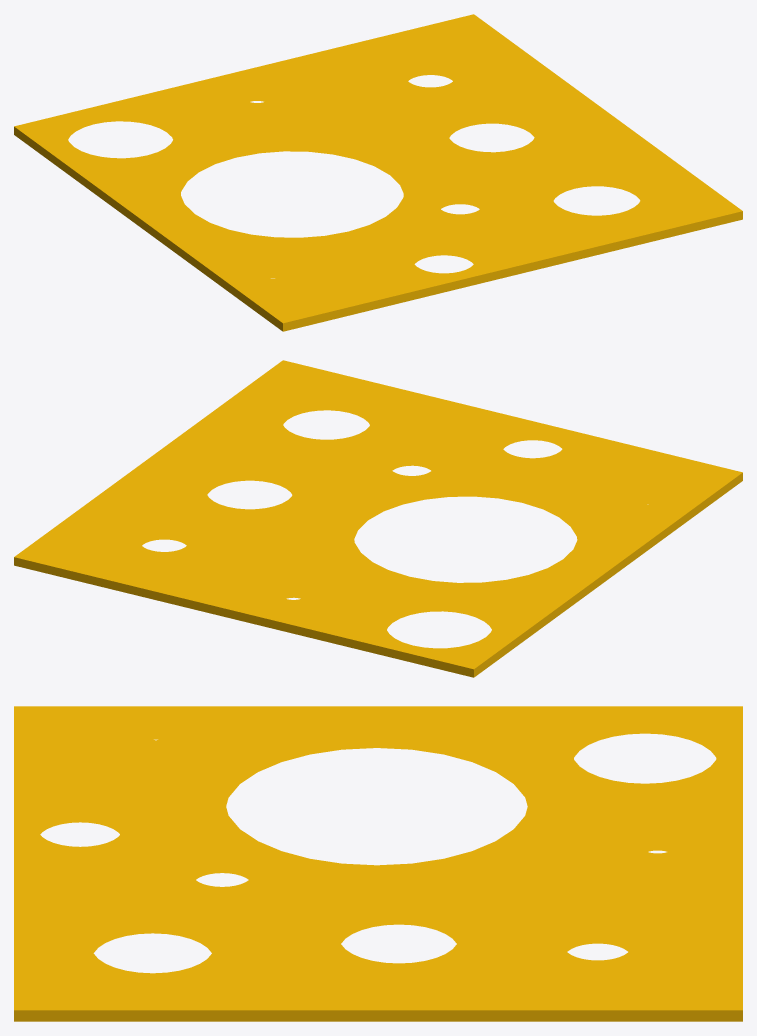
File: cheese.FBX
The picture shows the model from 3 angles, top to bottom: view 1: azimuth 30°, elevation 25°; view 2: azimuth 150°, elevation 25°; view 3: azimuth 270°, elevation 25°; orthographic projection. The views are drawn at different scales.
Parts seen in each view (by area): view 1: Circle002; view 2: Circle002; view 3: Circle002.
Boxes of the visible parts, x1=… form: Circle002: x1=14, y1=14, x2=742, y2=331; Circle002: x1=14, y1=360, x2=742, y2=677; Circle002: x1=14, y1=706, x2=742, y2=1021.
Size of the model in its own units: 5.71 by 0.1 by 5.78.
